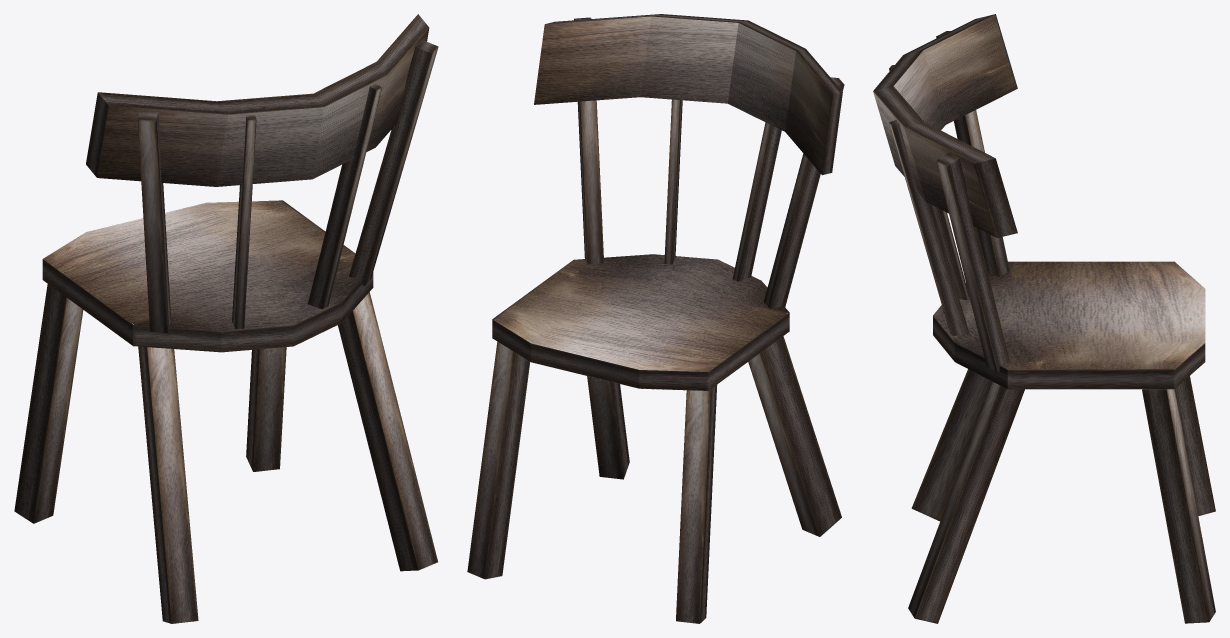
Rendered from chair.fbx.
The picture shows the model from 3 angles, left to right: view 1: azimuth 30°, elevation 25°; view 2: azimuth 150°, elevation 25°; view 3: azimuth 270°, elevation 25°; orthographic projection. The views are drawn at different scales.
Parts seen in each view (by area): view 1: Cube.007; view 2: Cube.007; view 3: Cube.007.
Boxes of the visible parts, bbox=[...] form: Cube.007: bbox=[14, 14, 438, 623]; Cube.007: bbox=[467, 14, 844, 623]; Cube.007: bbox=[873, 14, 1215, 623].
Bounding box in the file's own units: 80 × 124 × 80.31.
Materials: 1 (1 with a texture image).
